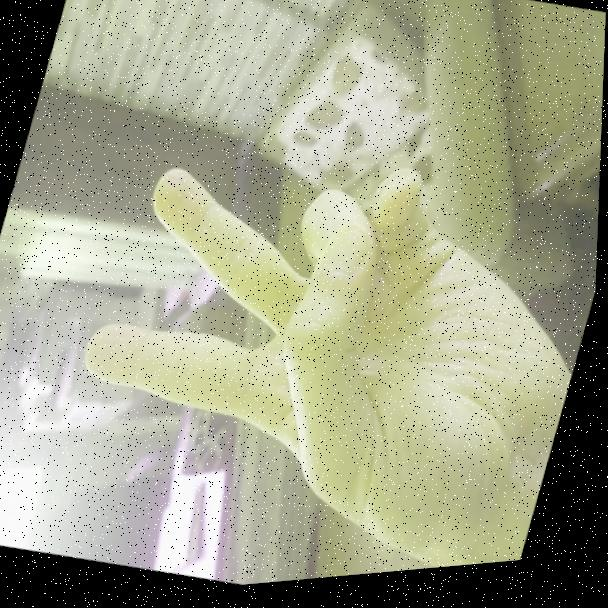two: (42, 92, 581, 597)
